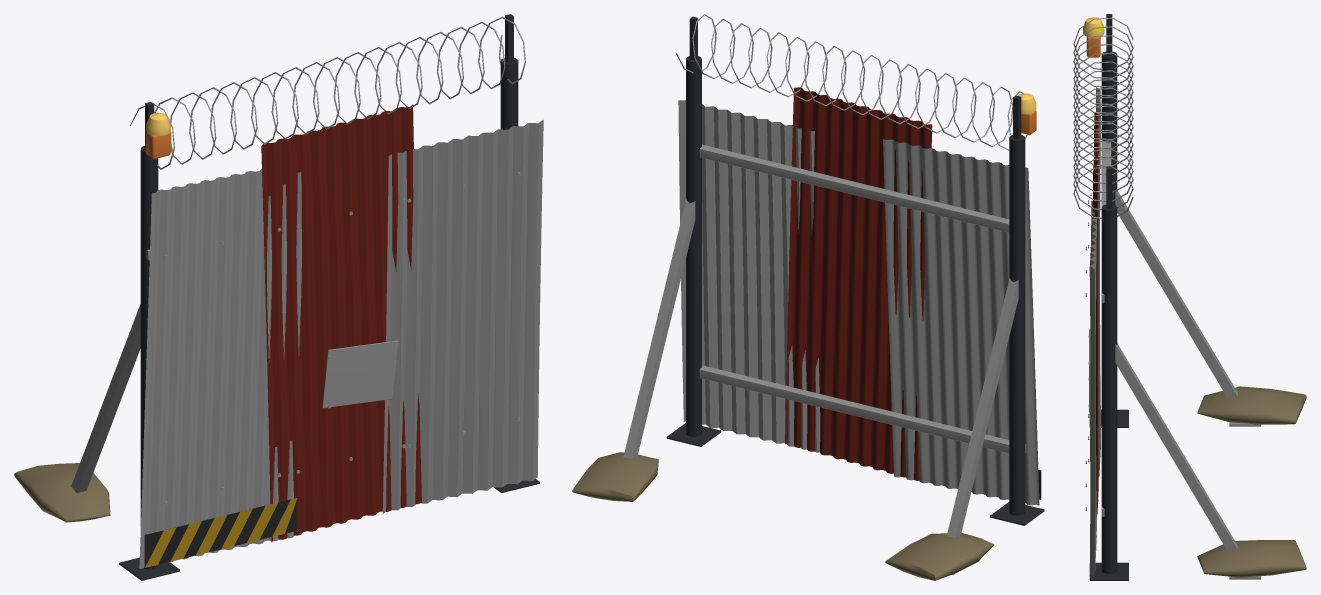
The model's file is Barricade_Sheet_Metal_2m.fbx.
The picture shows the model from 3 angles, left to right: view 1: azimuth 30°, elevation 25°; view 2: azimuth 150°, elevation 25°; view 3: azimuth 270°, elevation 25°; orthographic projection. The views are drawn at different scales.
Parts seen in each view (by area): view 1: Barricade_Sheet_Metal_2m_LOD0; view 2: Barricade_Sheet_Metal_2m_LOD0; view 3: Barricade_Sheet_Metal_2m_LOD0.
Part boxes in pixels (x1=…): Barricade_Sheet_Metal_2m_LOD0: x1=14, y1=14, x2=543, y2=580; Barricade_Sheet_Metal_2m_LOD0: x1=572, y1=14, x2=1044, y2=580; Barricade_Sheet_Metal_2m_LOD0: x1=1073, y1=14, x2=1306, y2=580.
Size of what is drawn, in the model's own units: 2.19 by 2.27 by 1.19.
